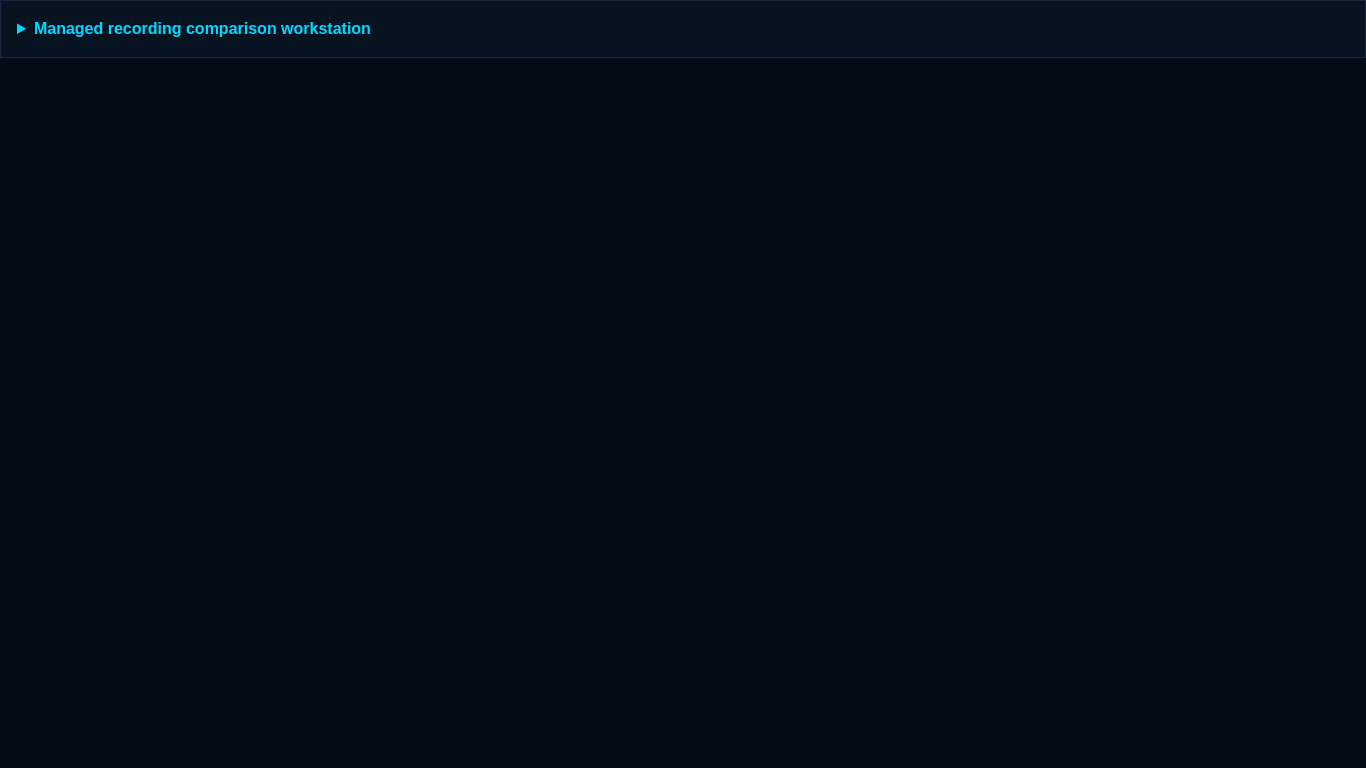
Test case: Saved comparison selection › captures the selected UUID before an asynchronous mutation resets the controlled select
Click the heading "Managed recording comparison workstation" at [202, 28], box left=34, top=20, right=371, bottom=37
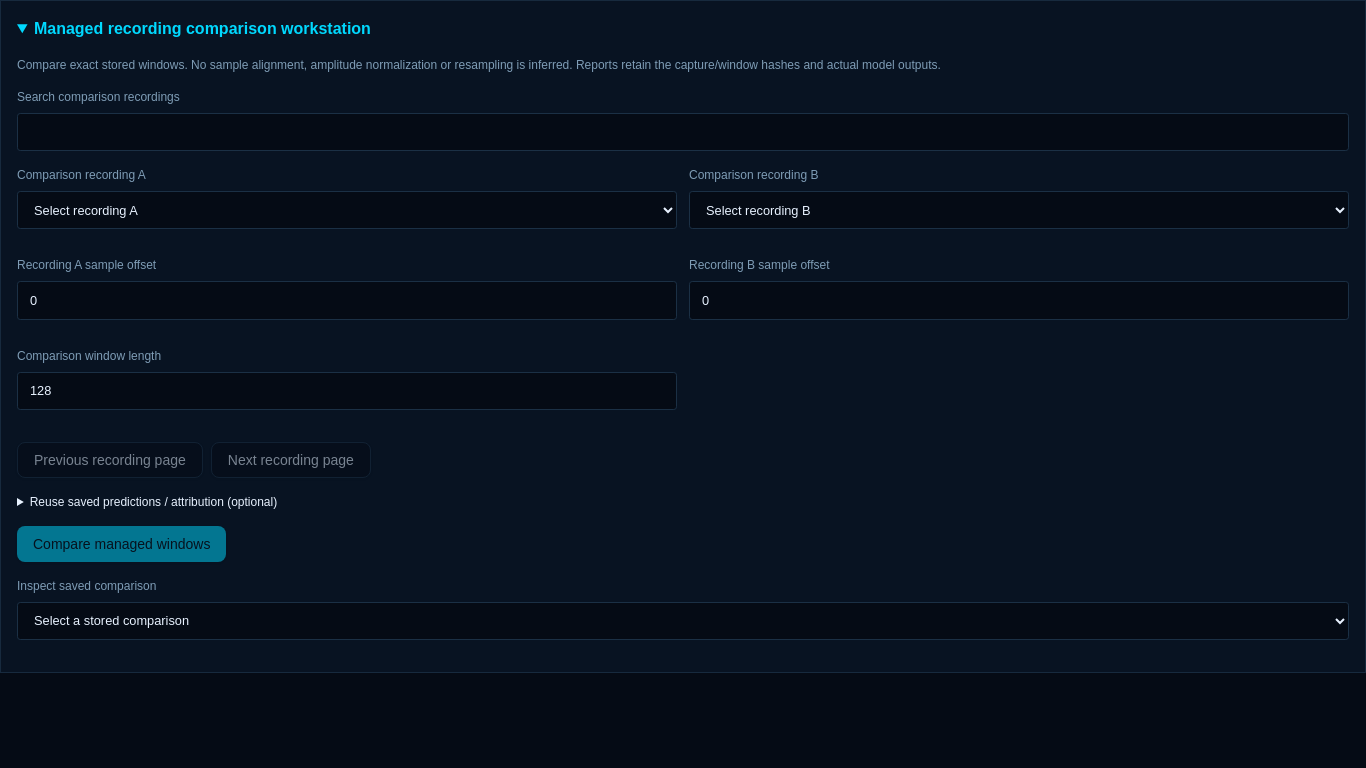
Select "2026-01-01T00:00:00Z · Generated saved comparison fixture" in the dropdown labelled "Inspect saved comparison" at [683, 621], box left=17, top=602, right=1349, bottom=640
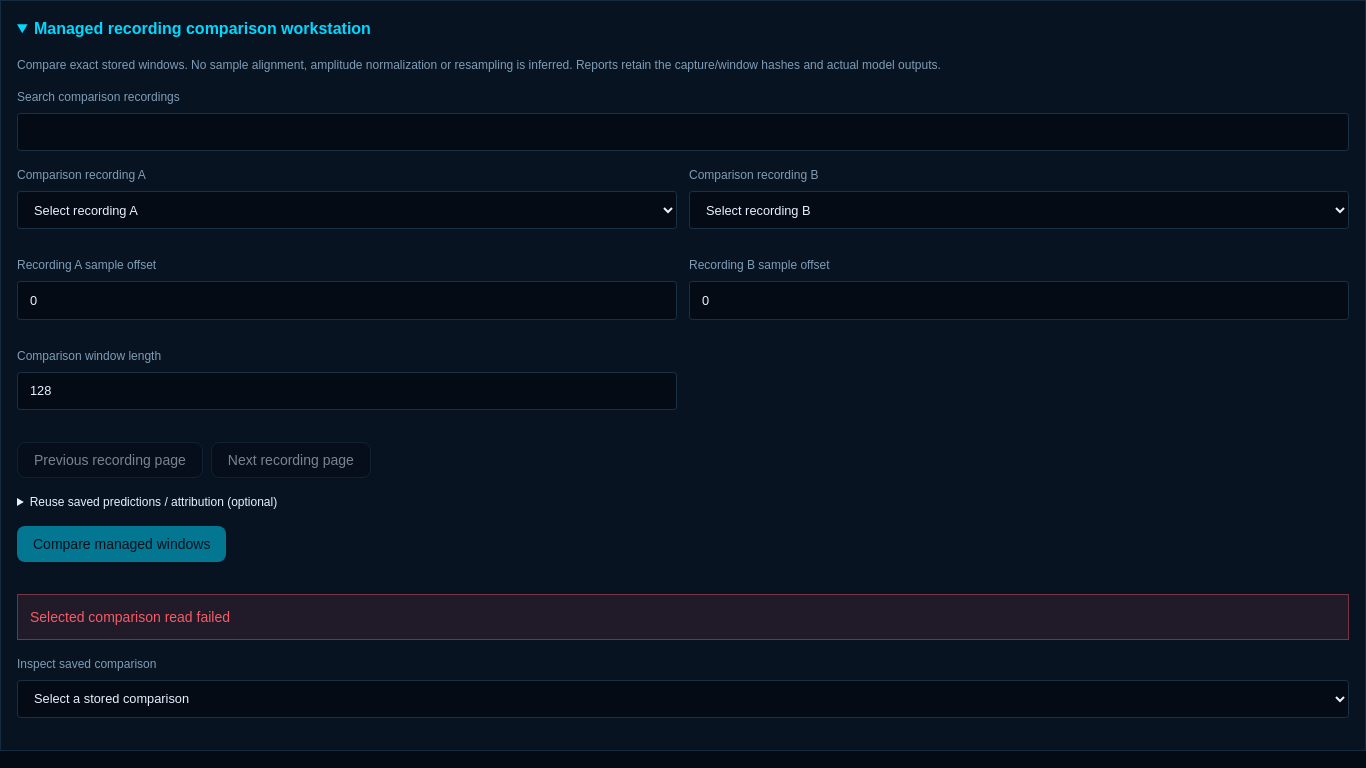
Check: the message "Selected comparison read failed" is shown, box left=17, top=594, right=1349, bottom=640
Check: the message reads "Selected comparison read failed", box left=30, top=609, right=230, bottom=625
